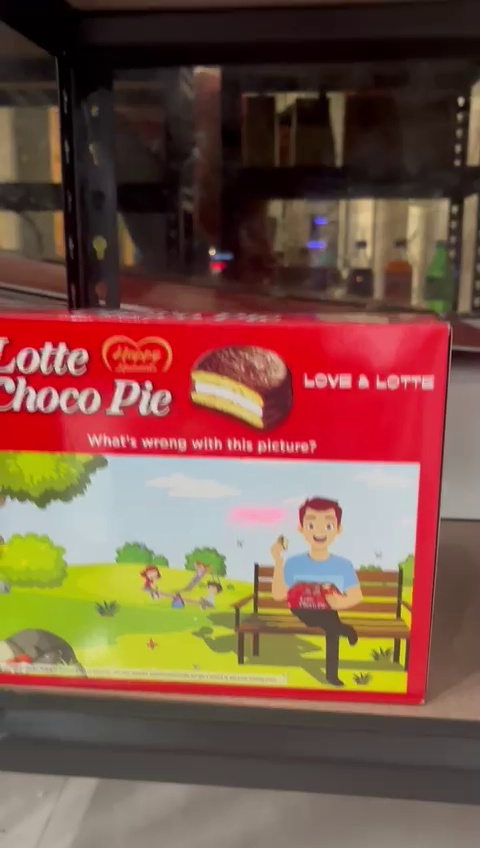Lotte Chocopie: (4, 308, 434, 703)
